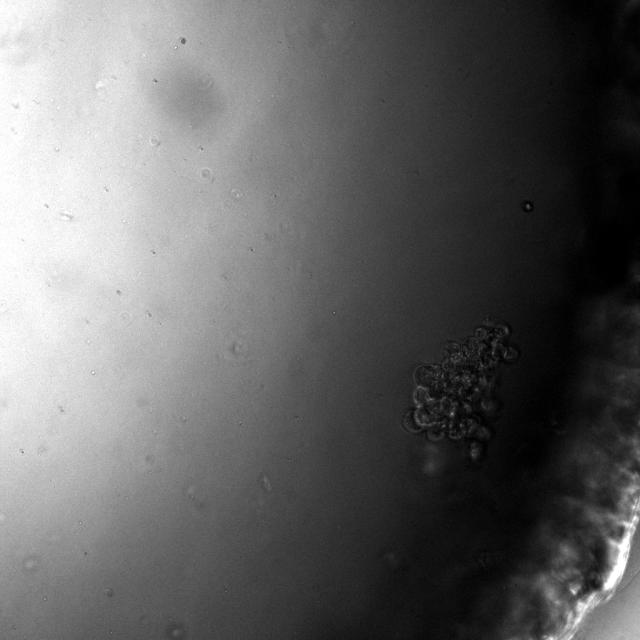organoid: (403, 320, 517, 460)
